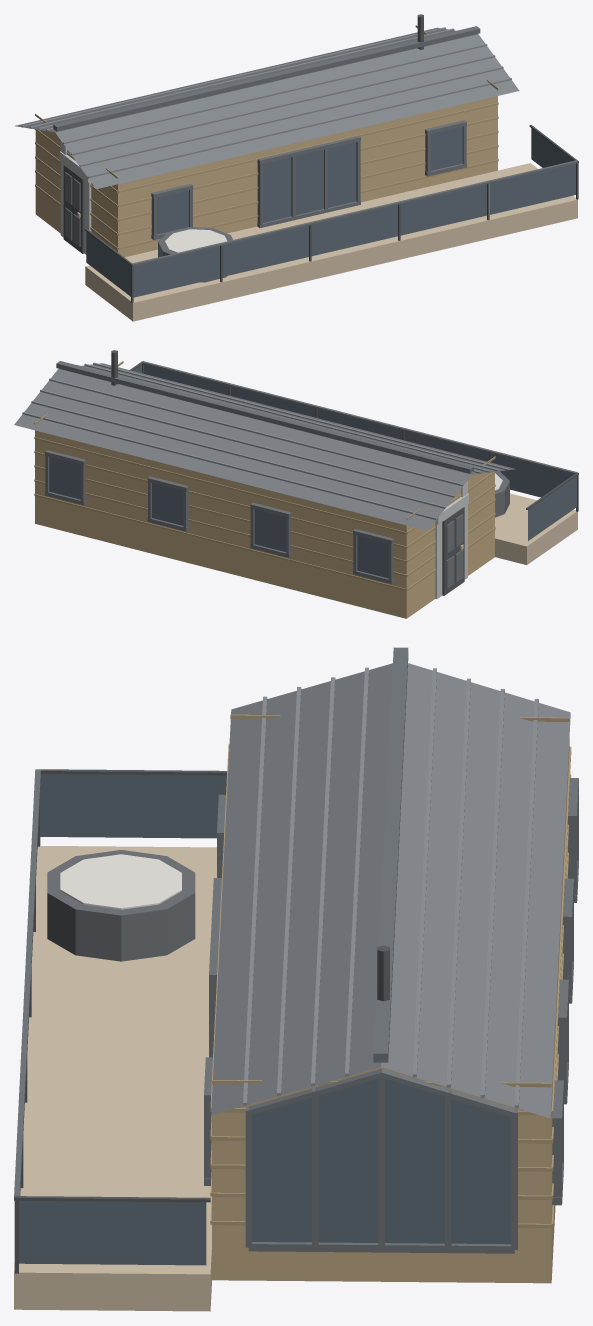
The picture shows the model from 3 angles, top to bottom: view 1: azimuth 30°, elevation 25°; view 2: azimuth 150°, elevation 25°; view 3: azimuth 270°, elevation 25°; orthographic projection. The views are drawn at different scales.
Parts seen in each view (by area): view 1: slate, door_wood, larch, slate_dk, slate_lt, door_wood_p, window_glass_004, window_glass_001, window_glass_002, window_glass_003, window_glass_005, window_glass_008 (+12 smaller); view 2: door_wood, slate, slate_dk, slate_lt, door_wood_p, larch, window_glass_001, window_glass_006, stone_band, window_glass_014, window_glass_015, window_glass_017 (+9 smaller); view 3: slate, larch, window_glass_013, slate_dk, door_wood, slate_lt, window_glass_007, window_glass_006, band_dark, string, door_wood_p, pipe.
Boxes of the visible parts, box(x1,y1,x2,y2) form: slate: box(15, 27, 519, 188); door_wood: box(35, 96, 497, 257); larch: box(85, 163, 577, 321); slate_dk: box(53, 26, 577, 266); slate_lt: box(21, 27, 511, 178); door_wood_p: box(35, 25, 498, 249); window_glass_004: box(400, 184, 486, 235); window_glass_001: box(133, 246, 219, 297); window_glass_002: box(222, 225, 308, 276); window_glass_003: box(311, 205, 397, 256); window_glass_005: box(490, 163, 575, 214); window_glass_008: box(263, 157, 291, 222); door_wood: box(35, 430, 494, 618); slate: box(14, 363, 515, 530); slate_dk: box(45, 361, 577, 584); slate_lt: box(22, 362, 507, 519); door_wood_p: box(34, 361, 495, 590); larch: box(495, 493, 577, 564); window_glass_001: box(491, 453, 573, 497); window_glass_006: box(528, 476, 576, 540); stone_band: box(435, 480, 468, 598); window_glass_014: box(49, 456, 80, 499); window_glass_015: box(152, 483, 183, 525); window_glass_017: box(357, 535, 388, 578); slate: box(211, 663, 570, 1118); larch: box(14, 845, 216, 1311); window_glass_013: box(252, 1079, 511, 1244); slate_dk: box(14, 647, 578, 1253); door_wood: box(212, 739, 569, 1283); slate_lt: box(243, 667, 538, 1108); window_glass_007: box(19, 1200, 206, 1265); window_glass_006: box(40, 774, 226, 838); band_dark: box(47, 850, 195, 961); string: box(60, 854, 181, 909); door_wood_p: box(210, 714, 571, 1228); pipe: box(14, 769, 389, 1273).
Size of the model in its own units: 12.43 by 4.02 by 6.9.
